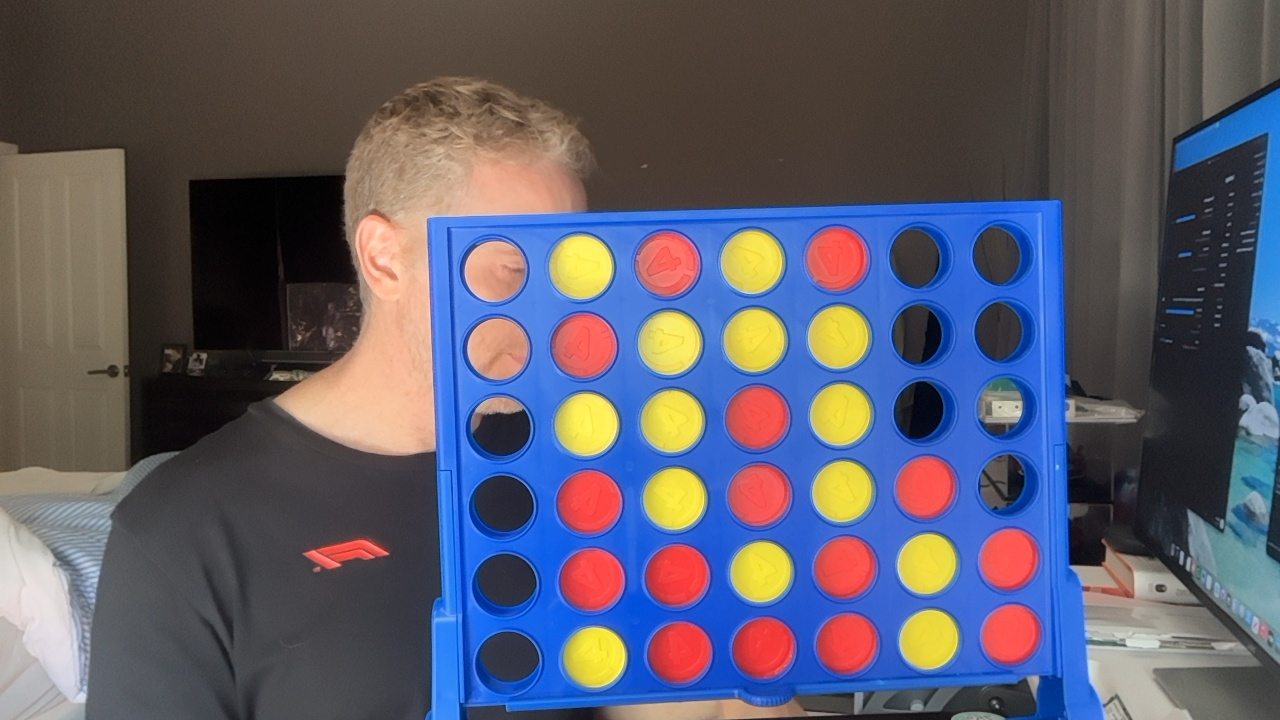red piece: (552, 313, 617, 378), (635, 231, 699, 296), (557, 470, 621, 534), (559, 548, 624, 611), (647, 621, 711, 684), (645, 544, 709, 607), (726, 385, 788, 450), (806, 227, 868, 291), (732, 617, 795, 679), (728, 463, 790, 526), (816, 613, 878, 675), (895, 456, 956, 519), (814, 537, 875, 599), (981, 604, 1041, 665), (979, 528, 1038, 590)
yellow piece: (549, 234, 614, 299), (637, 311, 702, 375), (640, 389, 704, 453), (721, 229, 784, 294), (555, 392, 618, 457), (723, 307, 786, 372), (562, 626, 626, 689), (643, 467, 706, 530), (812, 460, 874, 523), (730, 541, 793, 603), (808, 305, 869, 369), (810, 382, 871, 446), (897, 533, 957, 595), (899, 609, 959, 670)
